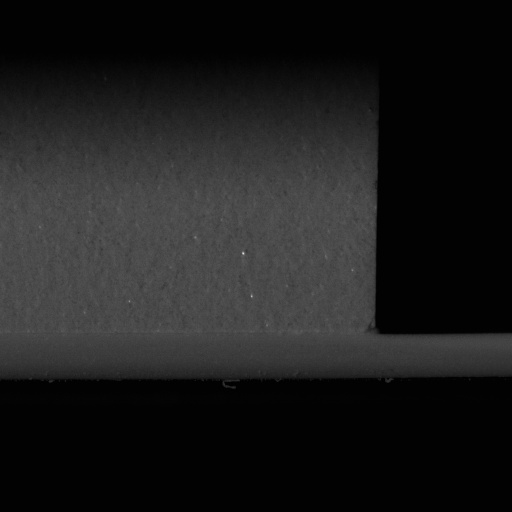changdai: (367, 329, 511, 381)
